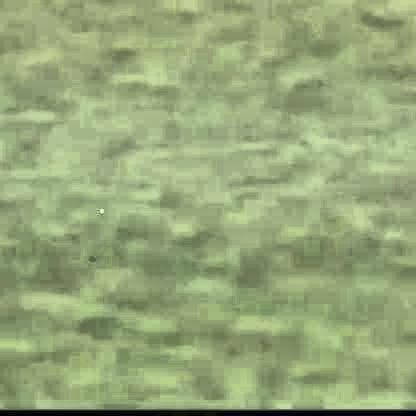golfball: (95, 205, 102, 212)
